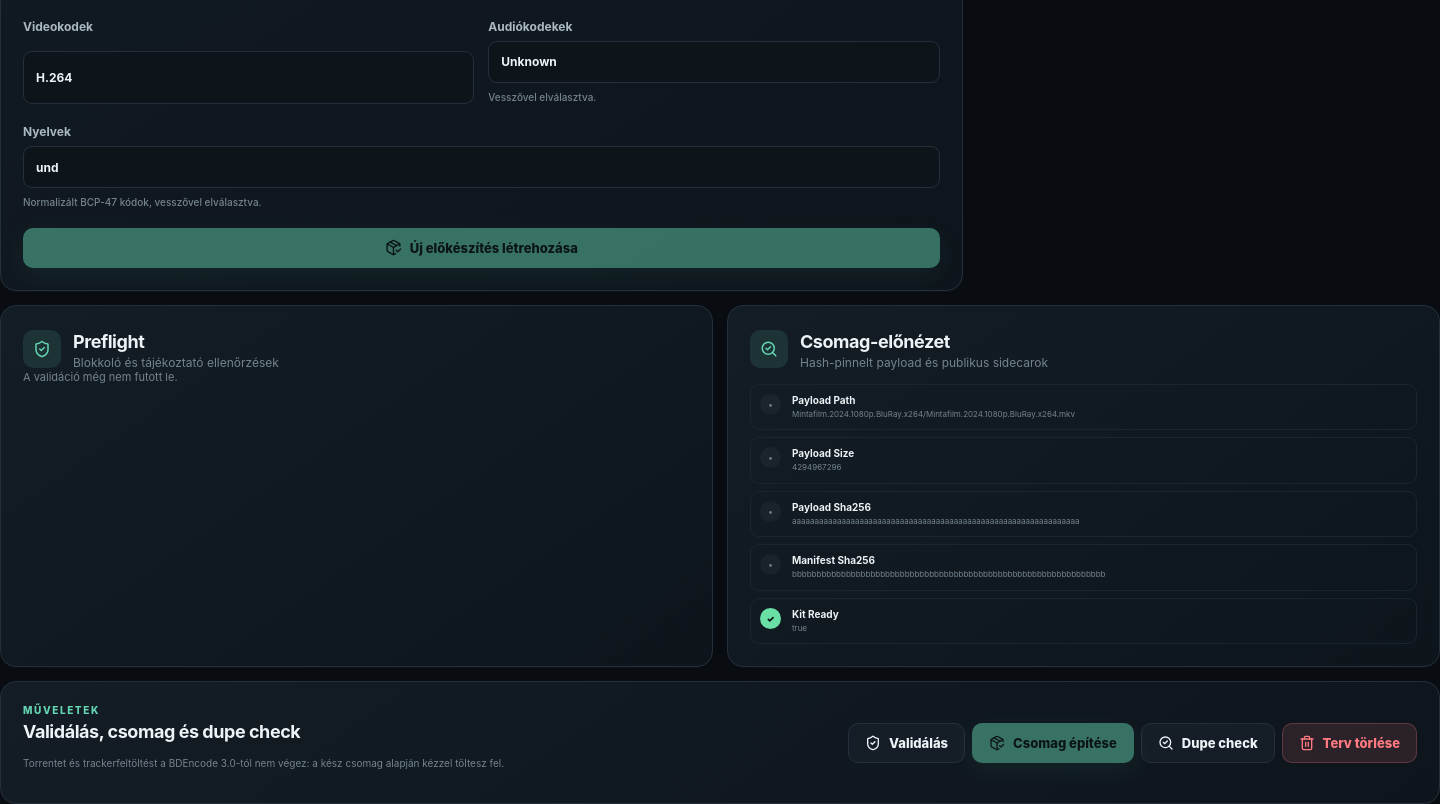
Test case: ReleasePanel 2.1 release workflow › keeps the validate response as separate preflight evidence
(page scrolled)
What coordinates should you click on to do the following:
click the button "Validálás"
I would click on:
 (907, 743)
Its box is [848,723,965,763].
(page scrolled)
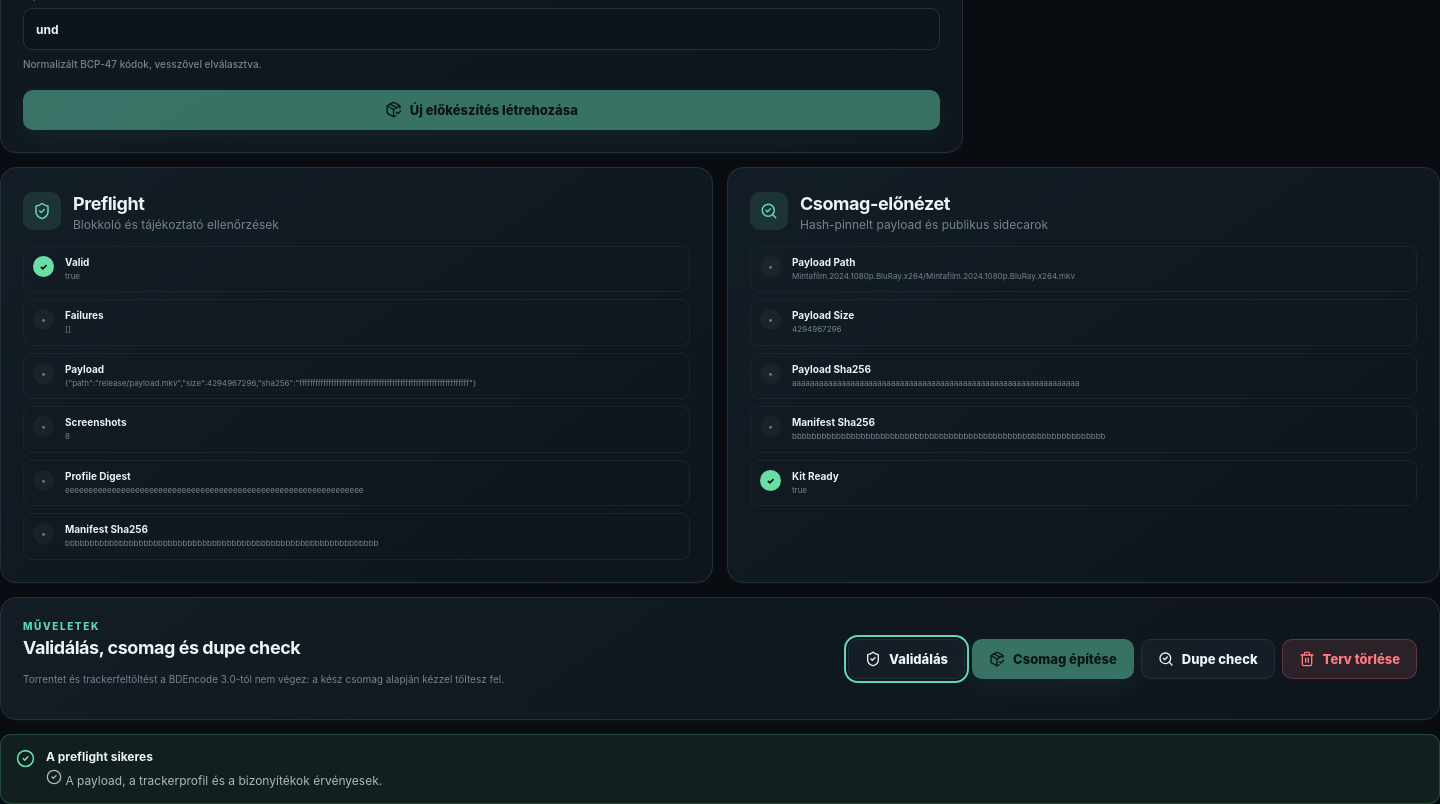
Result: the text "true" below "Blokkoló és tájékoztató ellenőrzések" is shown at [65,270,80,280]
Result: the text "release/payload.mkv" is shown at [65,378,476,388]
Result: the text "8" is shown at [65,431,70,441]
